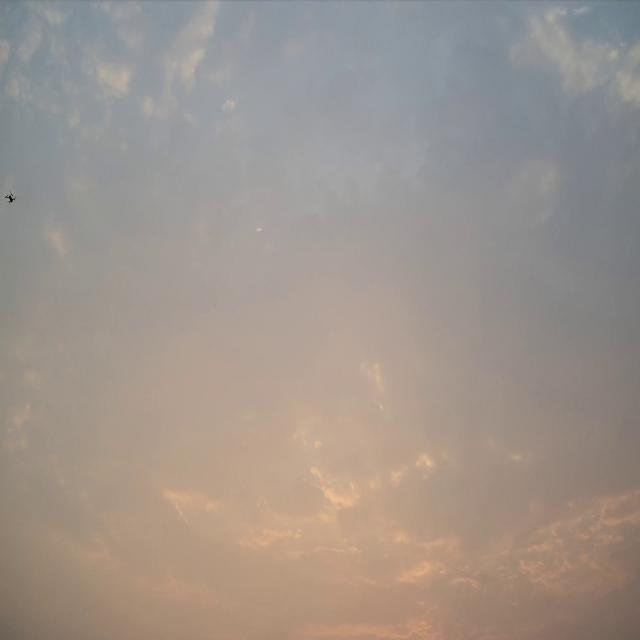drone: (5, 190, 16, 204)
